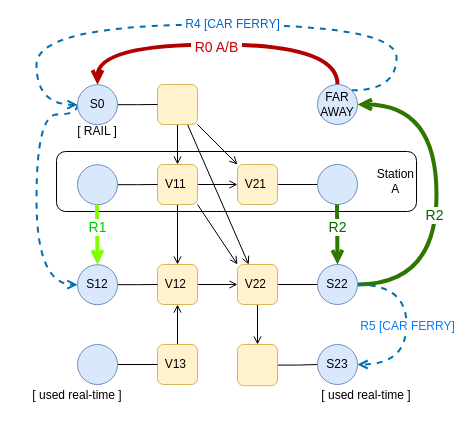
The diagram is 471 pixels wide and 428 high, and some of its shapes have lost their labels. Each missing label, with the centre of its shape:
"S11" belongs at [97,184].
"S13" belongs at [97,364].
"S21" belongs at [337,184].
"V0" belongs at [177,104].
"V23" belongs at [257,365].
